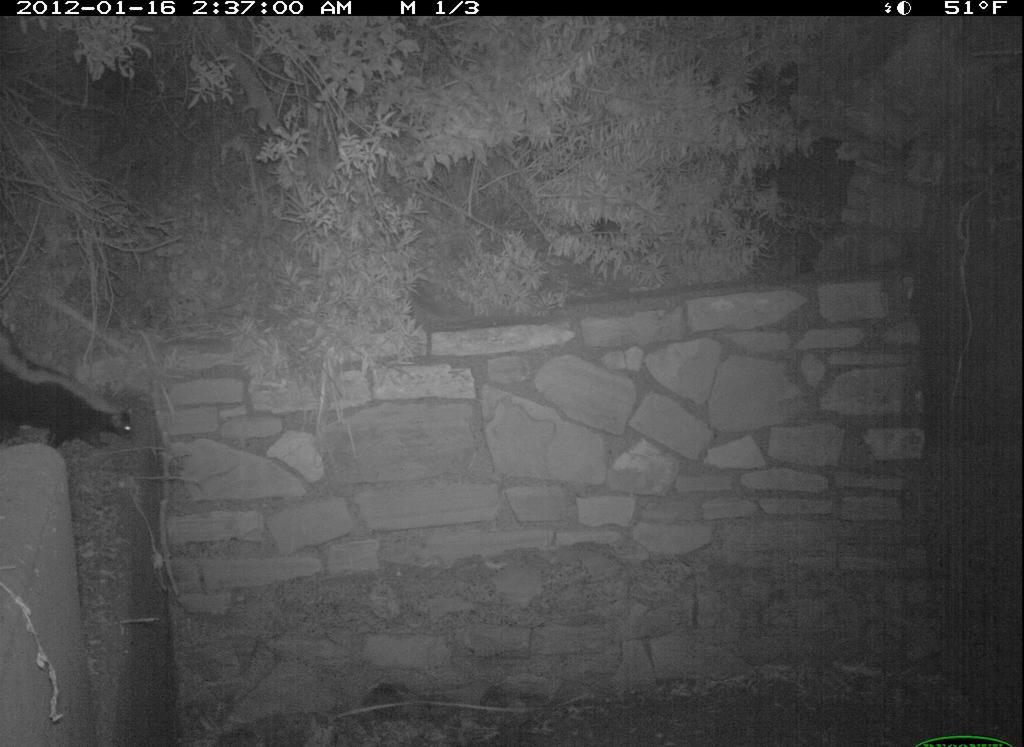skunk: (3, 322, 135, 461)
